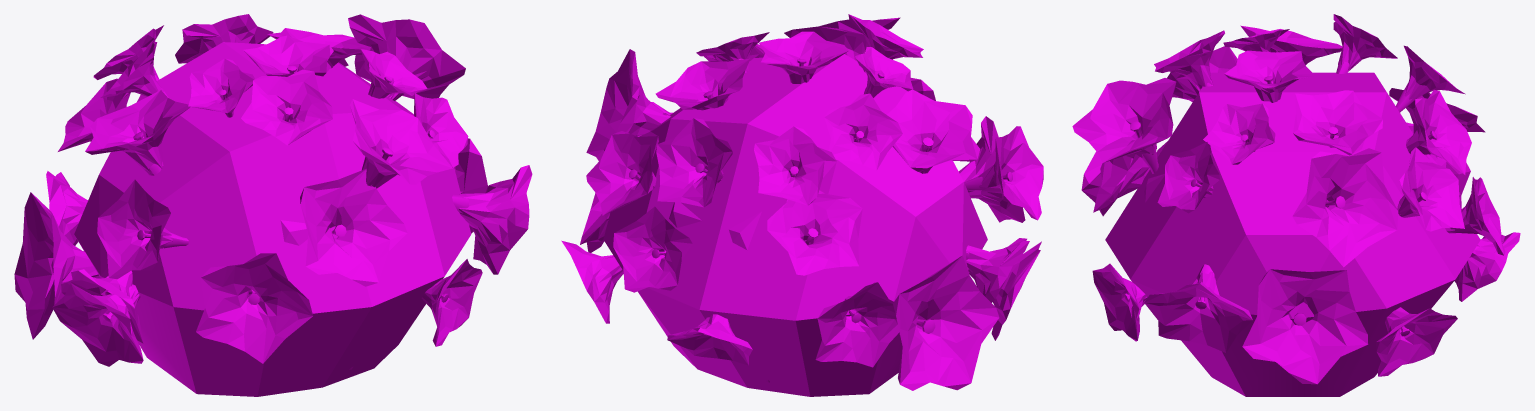
Rendered from moonflower 2.fbx.
3 views of the same model, side by side, from view 1: azimuth 30°, elevation 25°; view 2: azimuth 150°, elevation 25°; view 3: azimuth 270°, elevation 25° (orthographic). The views are drawn at different scales.
Visible parts, largest first — view 1: full_bush; view 2: full_bush; view 3: full_bush.
Boxes of the visible parts, <box> form: full_bush: <box>14,14,532,396</box>; full_bush: <box>561,14,1043,396</box>; full_bush: <box>1072,14,1520,396</box>.
Size of the model in its own units: 142 by 98.86 by 134.
